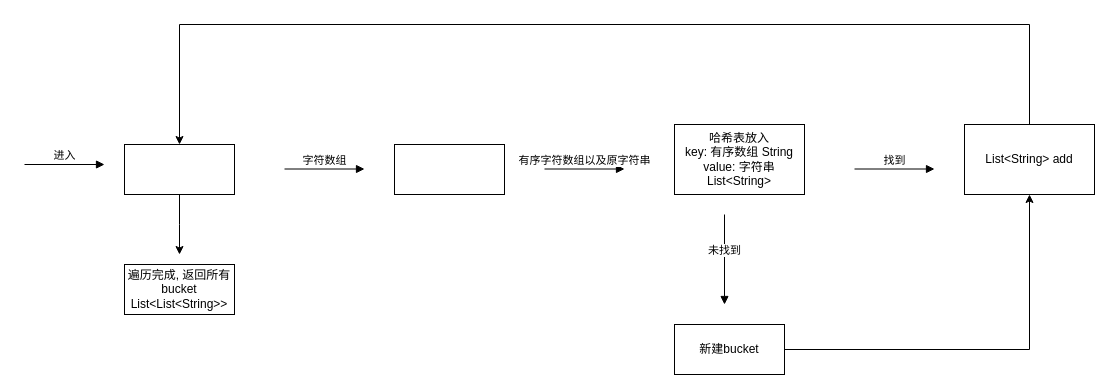
Some shapes in this 1112 by 392 pixel diagram are drawn without their labels. The centre of each missing label's shape, as x and y in pixels:
"取出字符串 转换为字符数组" goes at point (179, 169).
"字符数组排序 Array.sort()" goes at point (449, 169).
